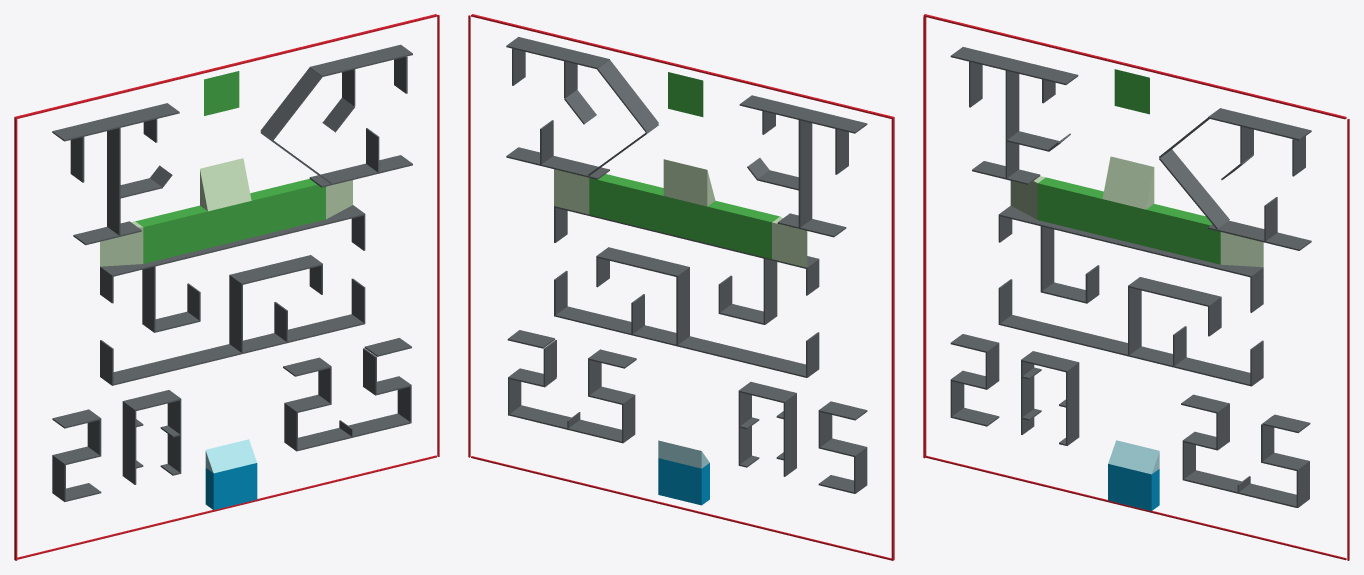
File: Track_transporter_2025.obj
The picture shows the model from 3 angles, left to right: view 1: azimuth 30°, elevation 25°; view 2: azimuth 150°, elevation 25°; view 3: azimuth 330°, elevation 25°; orthographic projection.
Parts seen in each view (by area): view 1: Body1:47, Body1:46, Body1:32, Body1:50, Body1:56, Body1:31, Body1, Body1:1, Body1:22, Body1:53, Body1:48, Body1:55 (+20 smaller); view 2: Body1:47, Body1:46, Body1:32, Body1:56, Body1:50, Body1, Body1:1, Body1:22, Body1:48, Body1:53, Body1:49, Body1:55 (+19 smaller); view 3: Body1:47, Body1:46, Body1:32, Body1:50, Body1:56, Body1:31, Body1, Body1:54, Body1:1, Body1:22, Body1:55, Body1:45 (+21 smaller).
Boxes of the visible parts, box(x1,y1,x2,y2) form: Body1:47: box(135, 179, 325, 263); Body1:46: box(14, 14, 437, 560); Body1:32: box(113, 314, 363, 385); Body1:50: box(200, 158, 251, 211); Body1:56: box(205, 463, 257, 510); Body1:31: box(102, 205, 363, 276); Body1: box(52, 103, 179, 141); Body1:1: box(107, 117, 120, 235); Body1:22: box(298, 413, 410, 450); Body1:53: box(260, 67, 322, 140); Body1:48: box(100, 221, 143, 266); Body1:55: box(204, 71, 239, 115); Body1:47: box(589, 174, 779, 258); Body1:46: box(471, 14, 894, 560); Body1:32: box(555, 306, 805, 377); Body1:56: box(658, 458, 709, 505); Body1:50: box(663, 159, 715, 206); Body1: box(739, 95, 867, 133); Body1:1: box(798, 120, 812, 228); Body1:22: box(509, 405, 621, 442); Body1:48: box(772, 216, 807, 267); Body1:53: box(597, 59, 658, 132); Body1:49: box(554, 169, 589, 214); Body1:55: box(668, 72, 703, 116); Body1:47: box(1037, 177, 1220, 264); Body1:46: box(923, 14, 1346, 560); Body1:32: box(1000, 315, 1250, 385); Body1:50: box(1102, 156, 1154, 209); Body1:56: box(1108, 464, 1159, 510); Body1:31: box(1000, 206, 1261, 277); Body1: box(950, 47, 1078, 84); Body1:54: box(1159, 149, 1229, 228); Body1:1: box(1005, 60, 1019, 177); Body1:22: box(1184, 470, 1296, 507); Body1:55: box(1114, 69, 1149, 114); Body1:45: box(1347, 118, 1349, 560).
Bounding box in the file's own units: 30.2 × 30.1 × 1.55.
